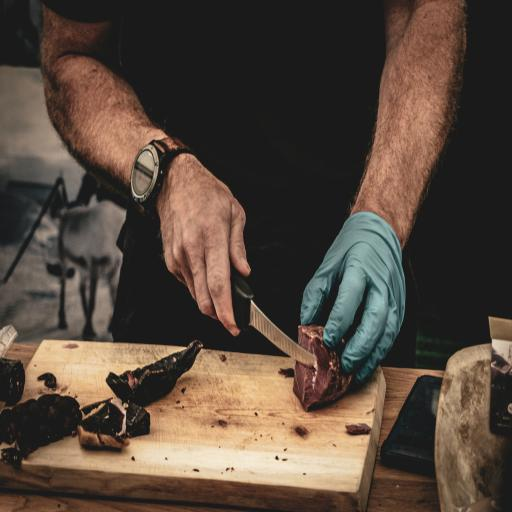Gloves: (295, 201, 412, 384)
